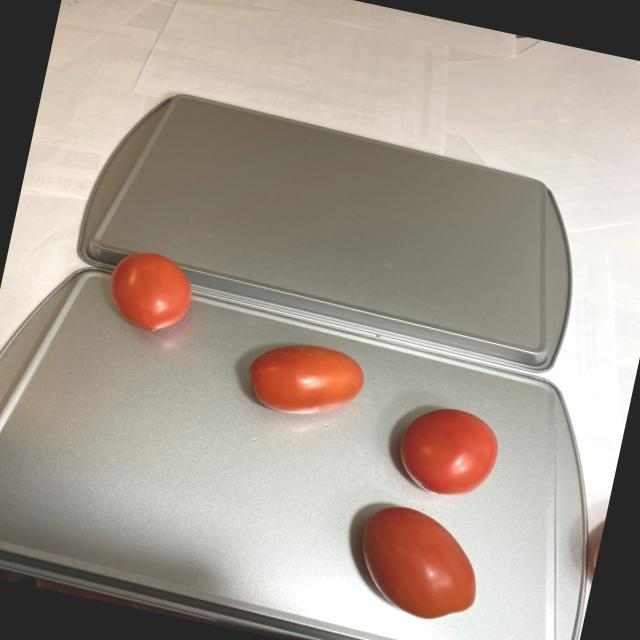tomato: (208, 333, 527, 631), (103, 248, 204, 342)
